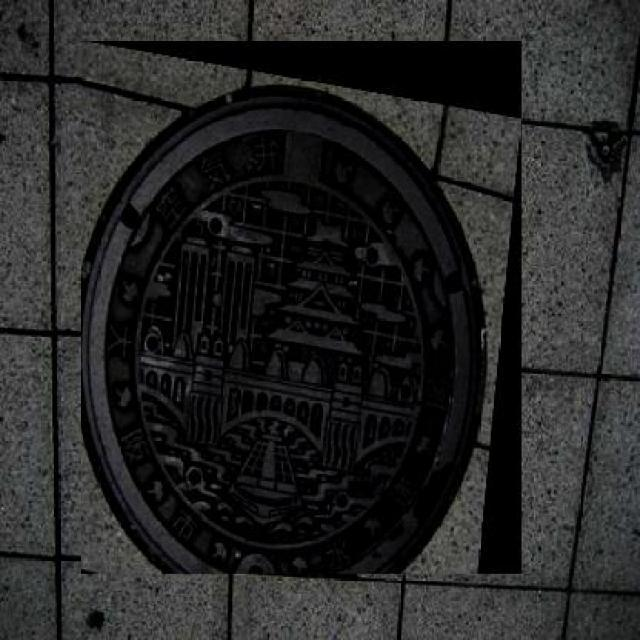Manhole: (80, 40, 522, 574)
